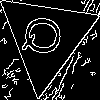Q: (21, 13, 71, 59)
